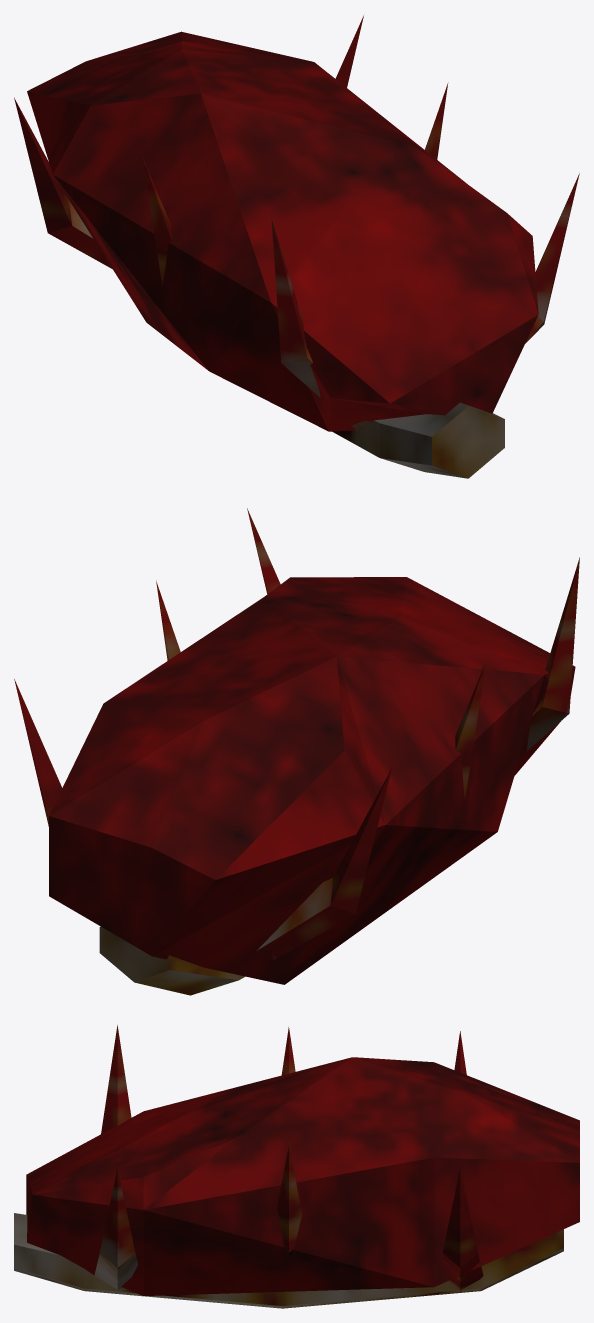
The model's file is corpse.glb.
The picture shows the model from 3 angles, top to bottom: view 1: azimuth 30°, elevation 25°; view 2: azimuth 150°, elevation 25°; view 3: azimuth 270°, elevation 25°; orthographic projection. The views are drawn at different scales.
Visible parts, largest first — view 1: flesh-large, corpse-bone; view 2: flesh-large, corpse-bone; view 3: flesh-large, corpse-bone.
Boxes of the visible parts, box(x1,y1,x2,y2) form: flesh-large: box(27, 31, 538, 431); corpse-bone: box(14, 15, 579, 478); flesh-large: box(49, 577, 575, 984); corpse-bone: box(14, 508, 579, 995); flesh-large: box(26, 1057, 579, 1295); corpse-bone: box(14, 1025, 563, 1308).
Size of the model in its own units: 0.9375 by 0.7507 by 1.65.
Materials: 1 (1 with a texture image).
